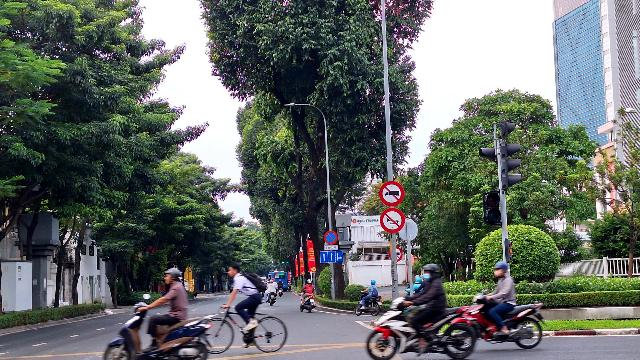cam-bop-coi: (380, 207, 406, 234)
cam-do-xe: (324, 231, 338, 244)
